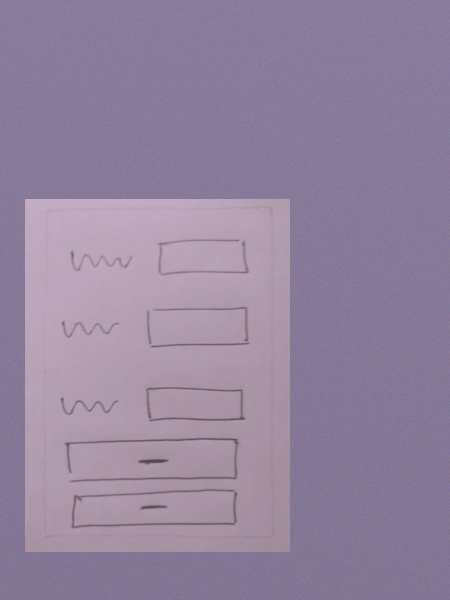button: (59, 435, 243, 485), (61, 487, 243, 534)
text: (64, 246, 136, 281), (55, 388, 122, 423), (56, 312, 123, 340)
text_input: (139, 298, 256, 356), (140, 381, 251, 429), (151, 235, 255, 281)
